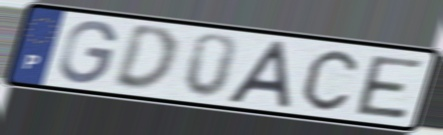0: (181, 31, 241, 101)
A: (222, 39, 294, 112)
C: (300, 48, 360, 113)
D: (109, 25, 178, 95)
E: (354, 54, 426, 122)
G: (57, 19, 121, 86)
